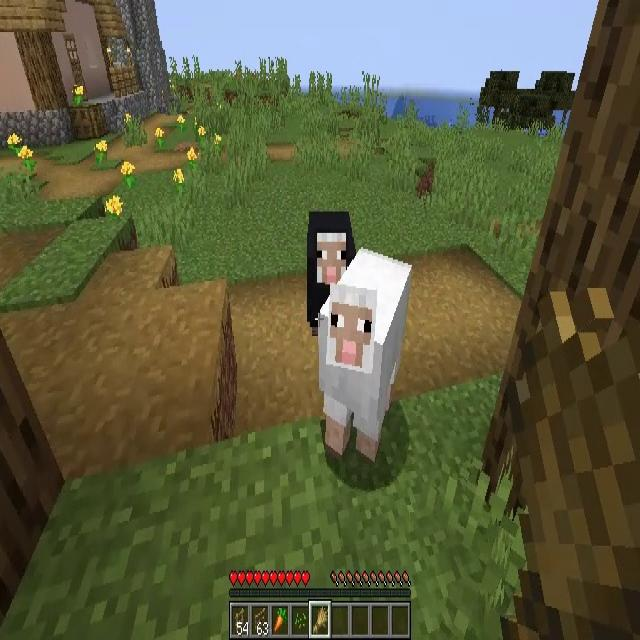flower: (19, 146, 33, 172), (120, 161, 133, 189), (106, 195, 122, 217), (95, 140, 107, 164), (74, 86, 84, 108), (155, 128, 165, 149), (187, 146, 198, 164), (8, 134, 20, 148), (174, 170, 184, 183), (178, 116, 185, 132), (197, 127, 206, 137)
sheep: (318, 246, 410, 458), (308, 211, 359, 336)
